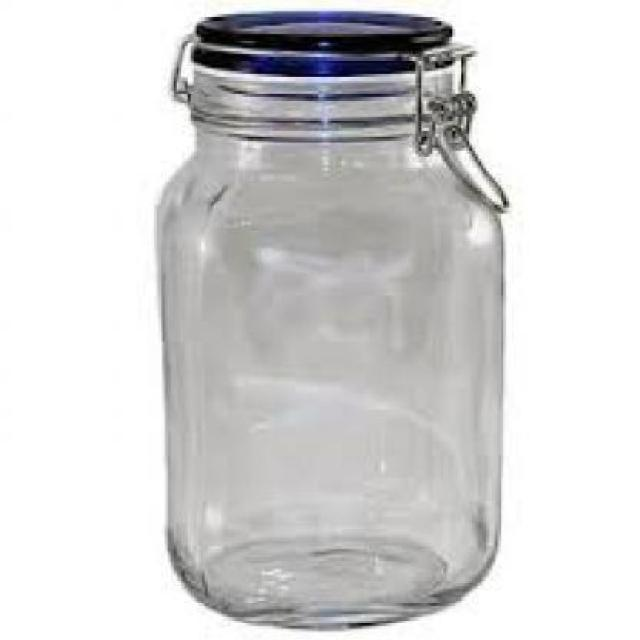kaca: (154, 8, 503, 623)
